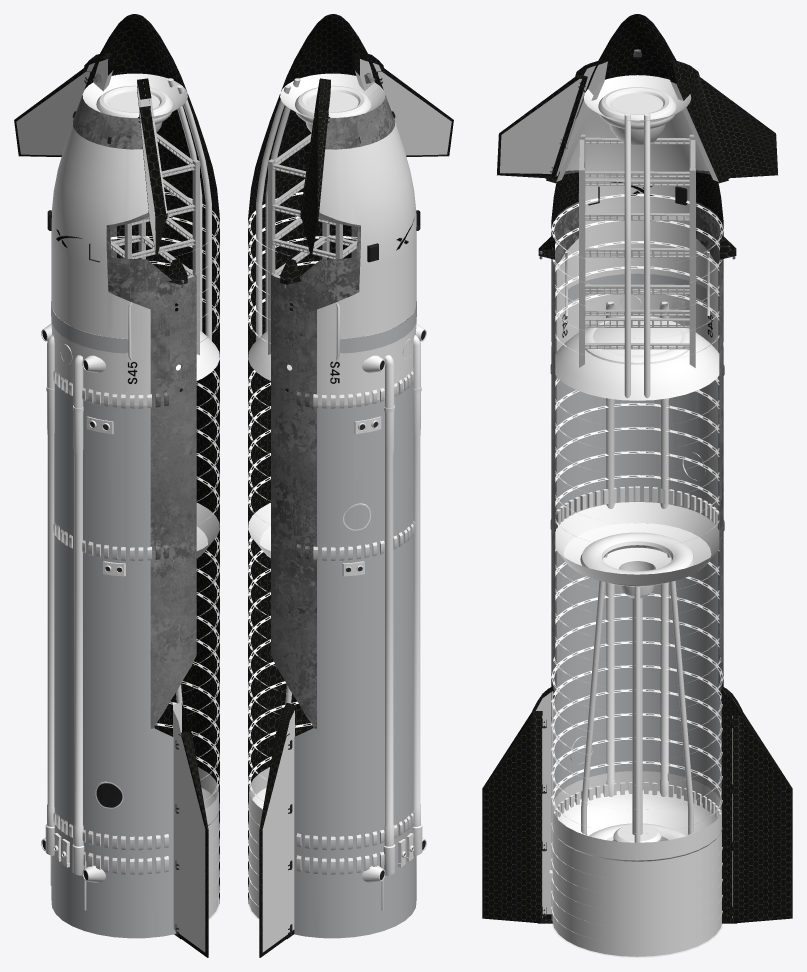
File: ship.glb
The picture shows the model from 3 angles, left to right: view 1: azimuth 30°, elevation 25°; view 2: azimuth 150°, elevation 25°; view 3: azimuth 270°, elevation 25°; orthographic projection. The views are drawn at different scales.
Parts seen in each view (by area): view 1: Ship_Body, Flap_Aft_R_Mesh, Flap_Fwd_L_Mesh, Flap_Fwd_R_Mesh, Cargo Door; view 2: Ship_Body, Flap_Aft_L_Mesh, Flap_Fwd_R_Mesh, Flap_Fwd_L_Mesh, Cargo Door; view 3: Ship_Body, Flap_Aft_R_Mesh, Flap_Aft_L_Mesh, Flap_Fwd_R_Mesh, Flap_Fwd_L_Mesh, Cargo Door.
Boxes of the visible parts, box(x1,y1,x2,y2) form: Ship_Body: box(41, 14, 219, 938); Flap_Aft_R_Mesh: box(175, 734, 208, 957); Flap_Fwd_L_Mesh: box(14, 68, 90, 156); Flap_Fwd_R_Mesh: box(138, 109, 166, 256); Cargo Door: box(51, 301, 128, 353); Ship_Body: box(248, 14, 426, 938); Flap_Aft_L_Mesh: box(259, 734, 292, 957); Flap_Fwd_R_Mesh: box(377, 68, 453, 156); Flap_Fwd_L_Mesh: box(301, 109, 330, 256); Cargo Door: box(339, 301, 416, 353); Ship_Body: box(532, 14, 742, 957); Flap_Aft_R_Mesh: box(482, 711, 546, 922); Flap_Aft_L_Mesh: box(732, 711, 792, 922); Flap_Fwd_R_Mesh: box(497, 77, 585, 179); Flap_Fwd_L_Mesh: box(693, 77, 777, 179); Cargo Door: box(568, 273, 706, 302).
Size of the model in its own units: 9.32 by 52.7 by 16.36.
19 materials, 5 textured.
